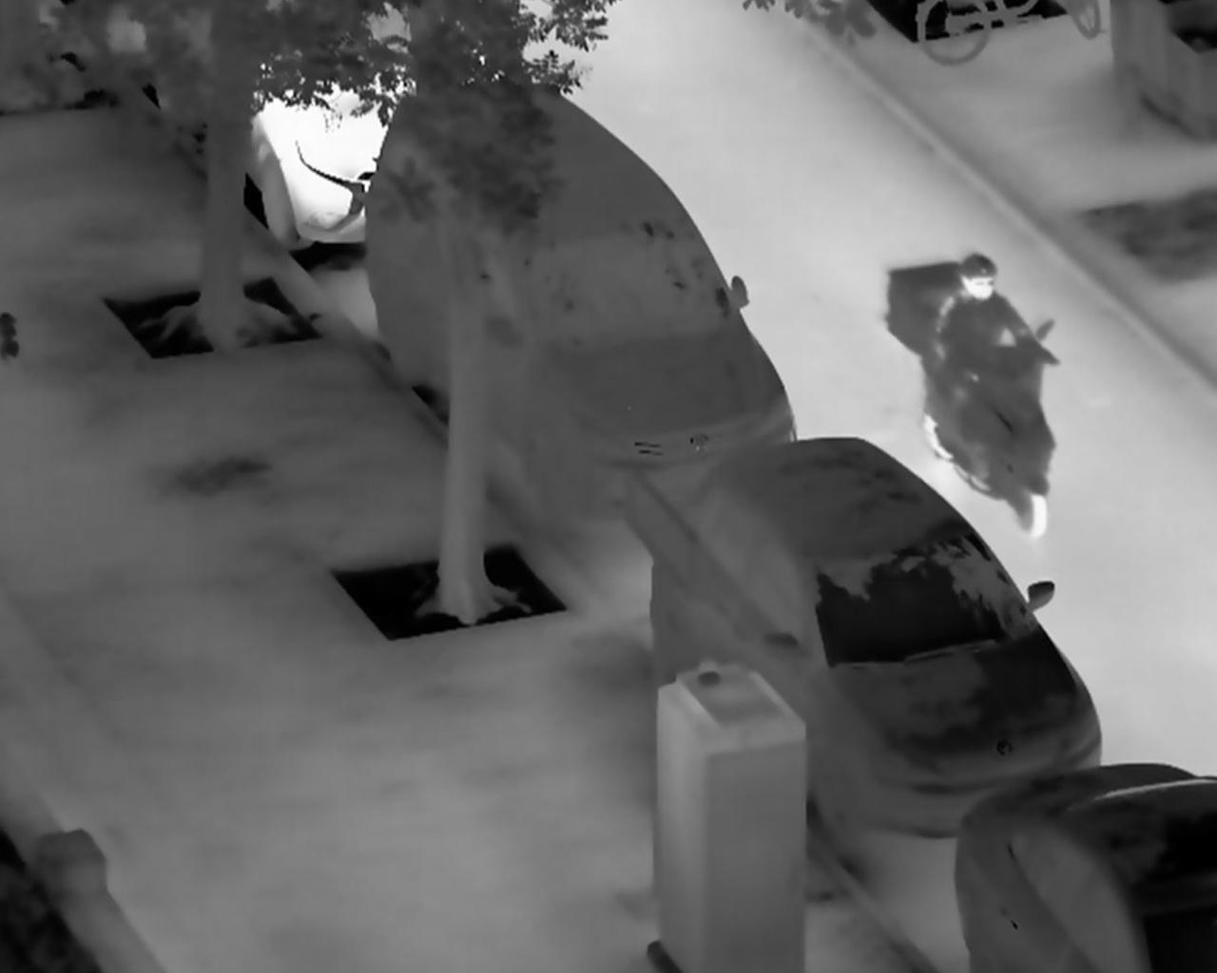person: (932, 252, 1061, 416)
